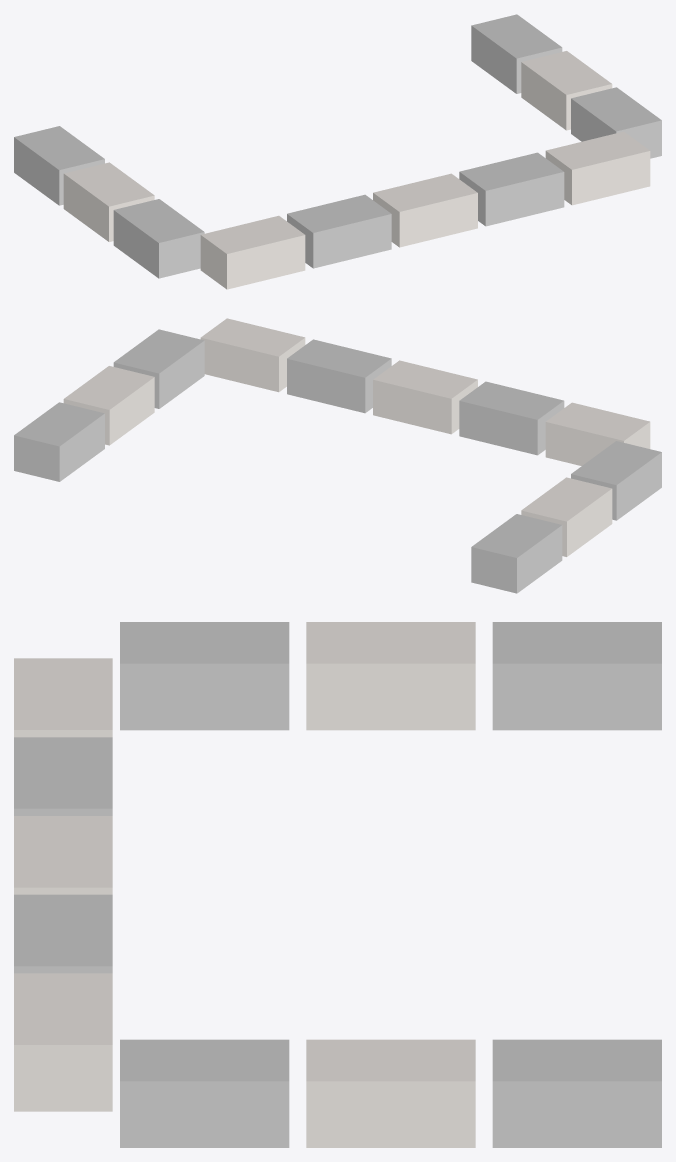
Rendered from SM_Sacos_v4_EnU_LOD1.fbx.
3 views of the same model, one above another, from view 1: azimuth 30°, elevation 25°; view 2: azimuth 150°, elevation 25°; view 3: azimuth 270°, elevation 25° (orthographic). The views are drawn at different scales.
Parts seen in each view (by area): view 1: SM_farp_betera_v19_LOD1; view 2: SM_farp_betera_v19_LOD1; view 3: SM_farp_betera_v19_LOD1.
Boxes of the visible parts, x1,y1,x2,y2 form: SM_farp_betera_v19_LOD1: (14,14,661,289); SM_farp_betera_v19_LOD1: (14,318,661,593); SM_farp_betera_v19_LOD1: (14,622,661,1147).
Size of the model in its own units: 3.85 by 0.26 by 2.3.
